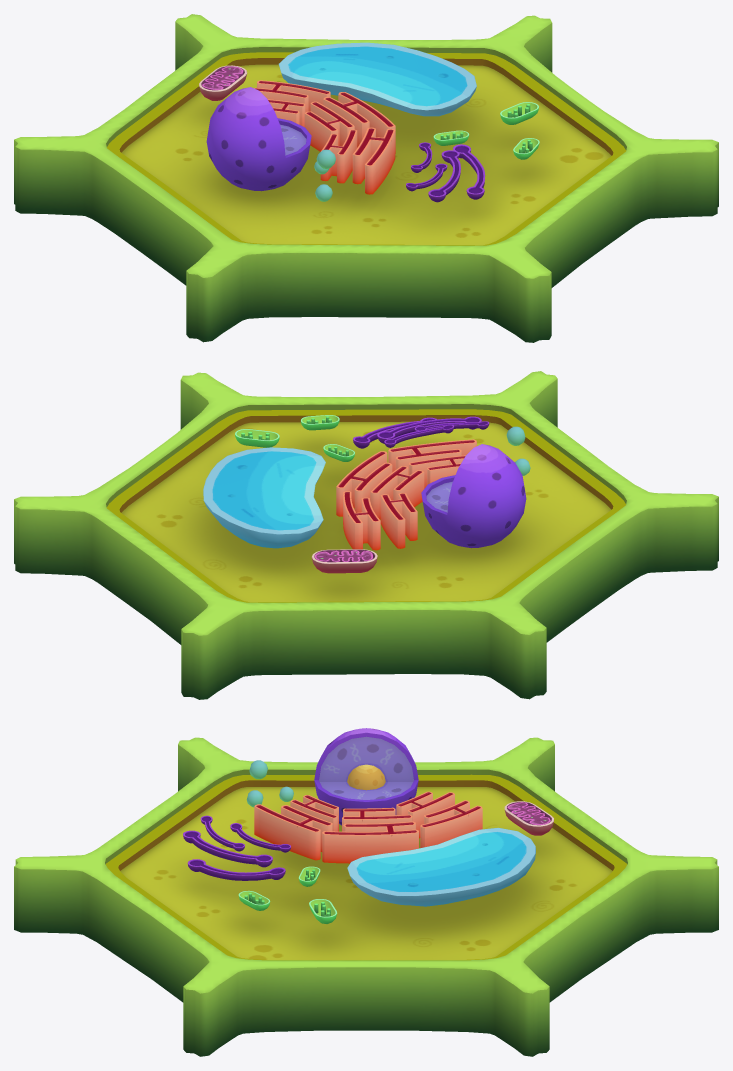
The picture shows the model from 3 angles, top to bottom: view 1: azimuth 30°, elevation 25°; view 2: azimuth 150°, elevation 25°; view 3: azimuth 270°, elevation 25°; orthographic projection.
Parts seen in each view (by area): view 1: Membrana.001, Vacuola.002, Nucleo.002, Reticulo.010, Reticulo.004, Reticulo.009, Reticulo.011, Mitocondria.002, Reticulo.012, golgi.005, golgi.001, Reticulo.008 (+1 smaller); view 2: Membrana.001, Vacuola.002, Nucleo.002, Reticulo.004, Reticulo.011, Reticulo.008, Reticulo.010, Reticulo.009, Mitocondria.002, Reticulo.012, golgi.001, Cloroplasto.001; view 3: Membrana.001, Vacuola.002, Nucleo.002, Reticulo.004, Reticulo.010, Reticulo.011, Mitocondria.002, Reticulo.008, Reticulo.009, golgi.005, golgi.001, Reticulo.012 (+2 smaller).
Part boxes in pixels (x1=…): Membrana.001: x1=14, y1=14, x2=718, y2=342; Vacuola.002: x1=278, y1=42, x2=476, y2=116; Nucleo.002: x1=206, y1=87, x2=311, y2=191; Reticulo.010: x1=352, y1=127, x2=395, y2=194; Reticulo.004: x1=323, y1=92, x2=395, y2=153; Reticulo.009: x1=304, y1=101, x2=354, y2=151; Reticulo.011: x1=254, y1=80, x2=330, y2=112; Mitocondria.002: x1=199, y1=65, x2=247, y2=100; Reticulo.012: x1=320, y1=129, x2=357, y2=183; golgi.005: x1=453, y1=144, x2=485, y2=199; golgi.001: x1=428, y1=150, x2=460, y2=202; Reticulo.008: x1=268, y1=99, x2=305, y2=126; Membrana.001: x1=14, y1=371, x2=718, y2=699; Vacuola.002: x1=203, y1=447, x2=325, y2=548; Nucleo.002: x1=421, y1=444, x2=526, y2=548; Reticulo.004: x1=336, y1=451, x2=392, y2=516; Reticulo.011: x1=343, y1=491, x2=380, y2=550; Reticulo.008: x1=380, y1=493, x2=417, y2=548; Reticulo.010: x1=388, y1=439, x2=476, y2=475; Reticulo.009: x1=370, y1=466, x2=424, y2=519; Mitocondria.002: x1=311, y1=549, x2=377, y2=573; Reticulo.012: x1=409, y1=455, x2=465, y2=488; golgi.001: x1=377, y1=416, x2=481, y2=443; Cloroplasto.001: x1=235, y1=429, x2=279, y2=447; Membrana.001: x1=14, y1=737, x2=718, y2=1056; Vacuola.002: x1=347, y1=827, x2=535, y2=906; Nucleo.002: x1=314, y1=728, x2=418, y2=825; Reticulo.004: x1=322, y1=821, x2=418, y2=863; Reticulo.010: x1=254, y1=804, x2=332, y2=860; Reticulo.011: x1=420, y1=800, x2=482, y2=847; Mitocondria.002: x1=504, y1=801, x2=553, y2=835; Reticulo.008: x1=396, y1=791, x2=454, y2=838; Reticulo.009: x1=342, y1=807, x2=412, y2=831; golgi.005: x1=187, y1=859, x2=285, y2=880; golgi.001: x1=183, y1=830, x2=272, y2=867; Reticulo.012: x1=290, y1=795, x2=338, y2=831.
Bounding box in the file's own units: 0.224 × 0.0586 × 0.2606.
Materials: 10 (10 with a texture image).
